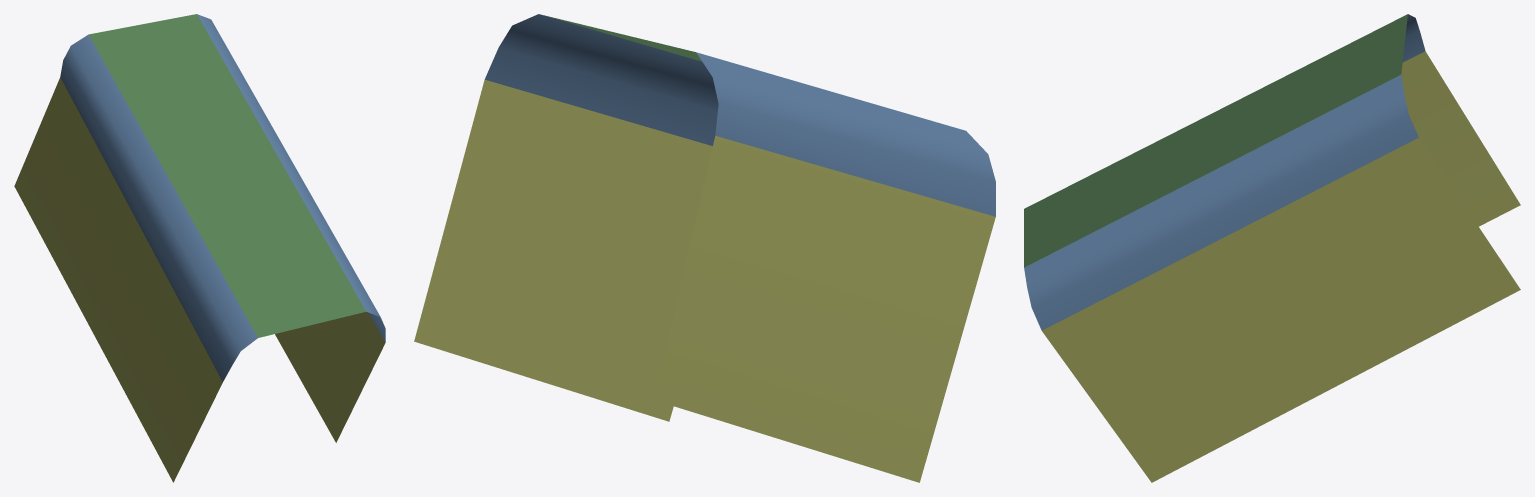
File: Rampa_1.fbx
3 renders of one model, left to right at view 1: azimuth 30°, elevation 25°; view 2: azimuth 150°, elevation 25°; view 3: azimuth 270°, elevation 25°, orthographic. The views are drawn at different scales.
Visible parts, largest first — view 1: Rampa_1, Ground4, Wall4; view 2: Rampa_1, Wall4, Ground4; view 3: Rampa_1, Wall4, Ground4.
Boxes of the visible parts, bbox=[...] form: Rampa_1: bbox=[14, 77, 385, 482]; Ground4: bbox=[88, 14, 365, 337]; Wall4: bbox=[60, 14, 385, 381]; Rampa_1: bbox=[414, 80, 995, 482]; Wall4: bbox=[484, 14, 995, 216]; Ground4: bbox=[543, 15, 701, 61]; Rampa_1: bbox=[1042, 51, 1520, 482]; Wall4: bbox=[1024, 14, 1425, 330]; Ground4: bbox=[1024, 14, 1407, 267].
Bounding box in the file's own units: 1961 × 4109 × 4661.
